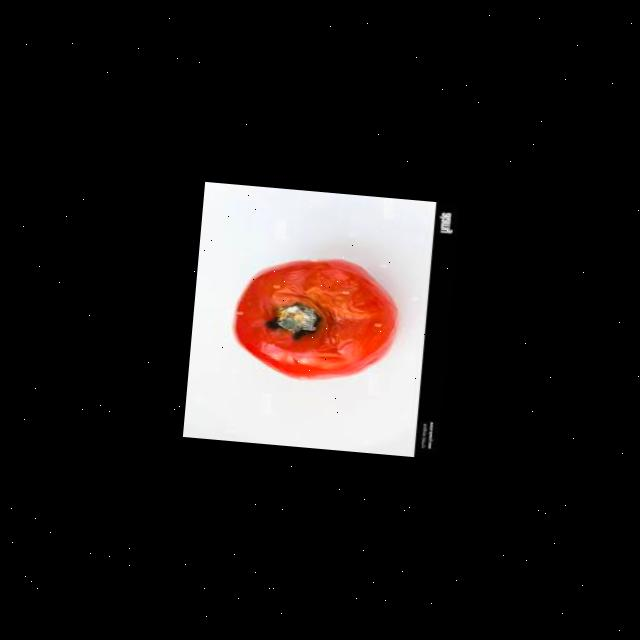tomato: (224, 244, 407, 390)
